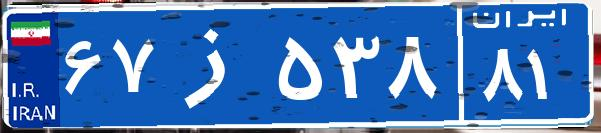1: (525, 38, 570, 115)
3: (330, 28, 385, 110)
5: (273, 28, 330, 110)
6: (57, 26, 110, 107)
7: (110, 28, 158, 105)
8: (385, 28, 445, 110), (475, 38, 525, 113)
ز: (158, 15, 273, 115)
